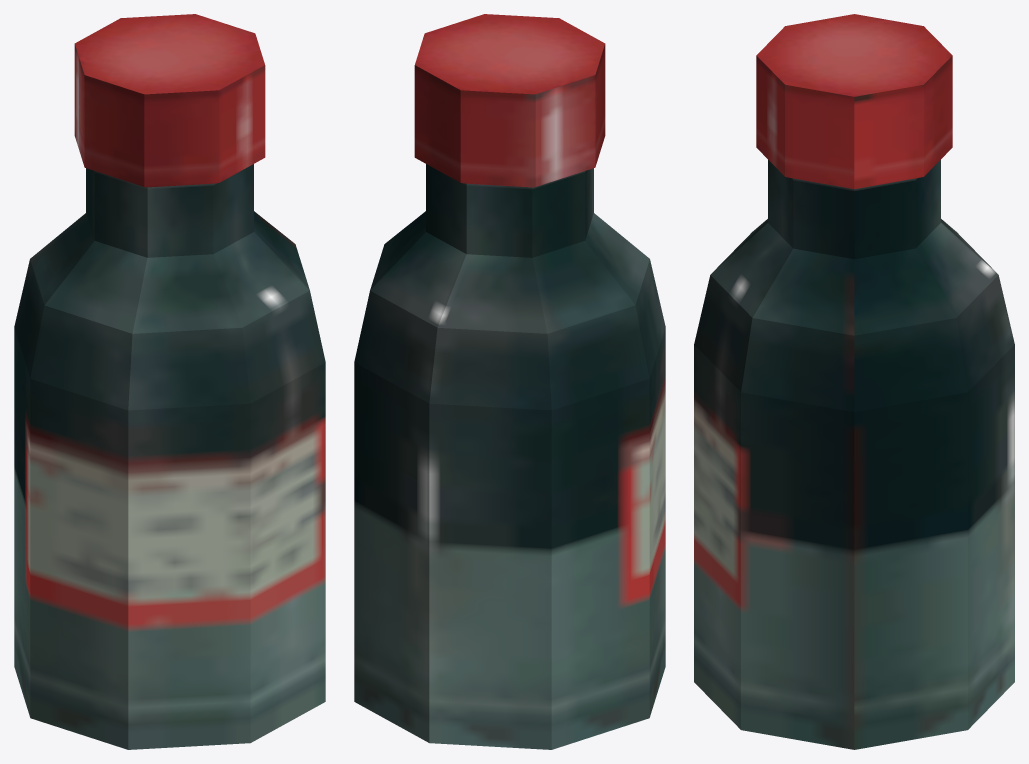
The model's file is jar_large_3.fbx.
3 views of the same model, side by side, from view 1: azimuth 30°, elevation 25°; view 2: azimuth 150°, elevation 25°; view 3: azimuth 270°, elevation 25° (orthographic).
Visible parts, largest first — view 1: mesh_0; view 2: mesh_0; view 3: mesh_0.
Boxes of the visible parts, <box> form: mesh_0: <box>14,14,325,749</box>; mesh_0: <box>354,14,665,749</box>; mesh_0: <box>694,14,1014,749</box>.
Size of the model in its own units: 13.92 by 30 by 13.92.
Materials: 1 (1 with a texture image).
